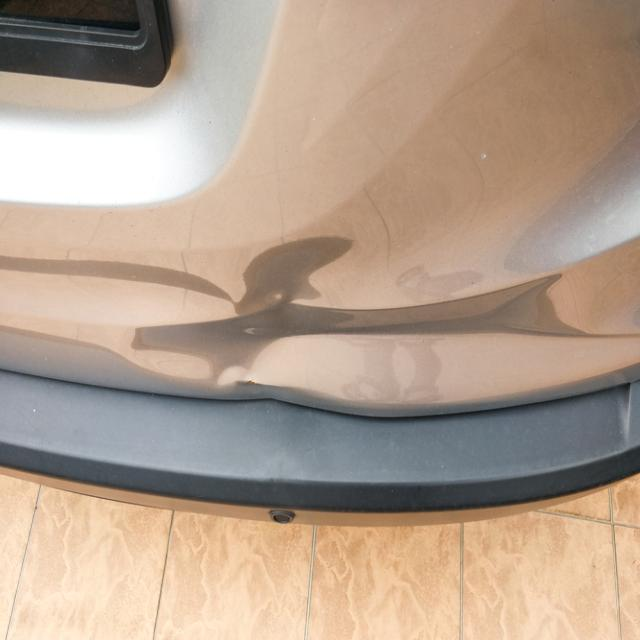dent: (132, 236, 440, 404)
